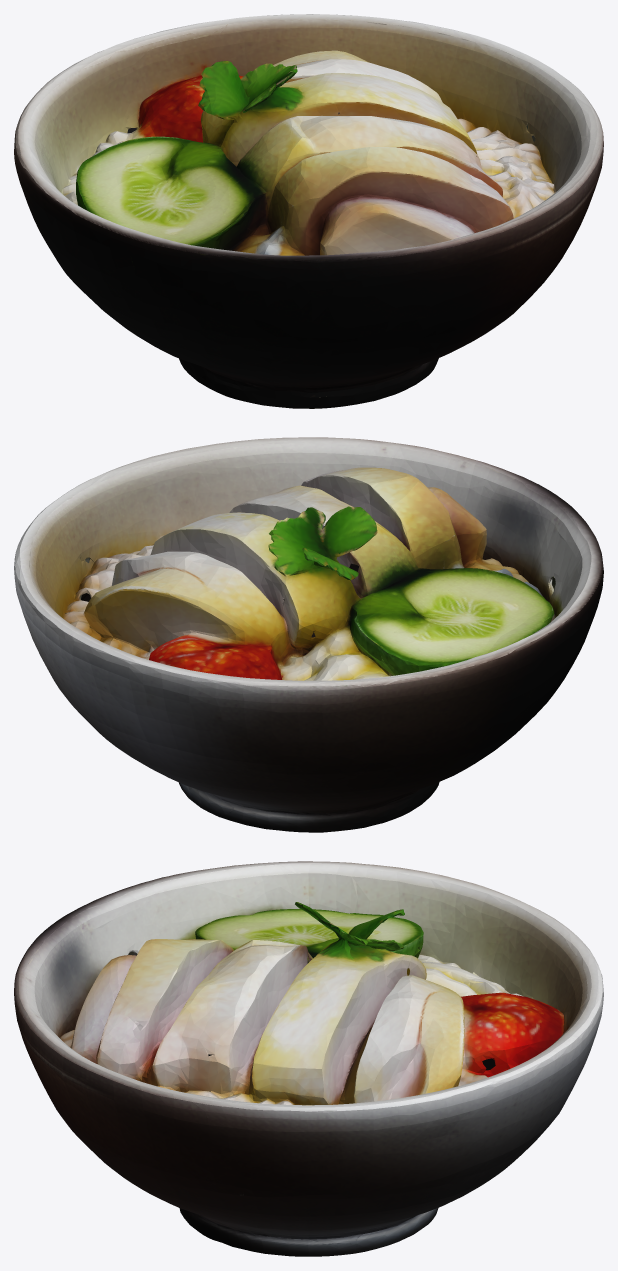
The model's file is ChickenRice.fbx.
3 renders of one model, top to bottom at view 1: azimuth 30°, elevation 25°; view 2: azimuth 150°, elevation 25°; view 3: azimuth 270°, elevation 25°, orthographic.
Visible parts, largest first — view 1: geometry_0; view 2: geometry_0; view 3: geometry_0.
Boxes of the visible parts, <box> form: geometry_0: <box>14,14,603,408</box>; geometry_0: <box>14,437,603,832</box>; geometry_0: <box>14,861,603,1256</box>.
Bounding box in the file's own units: 100 × 52.4 × 100.
